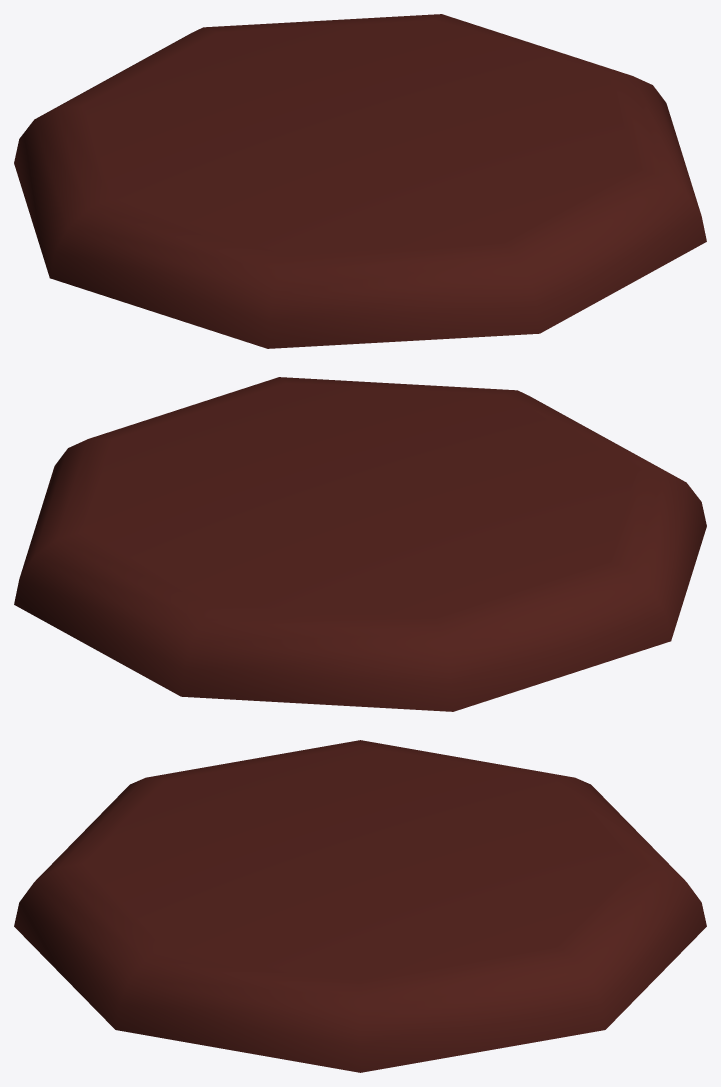
File: caramel_type0.fbx
3 views of the same model, one above another, from view 1: azimuth 30°, elevation 25°; view 2: azimuth 150°, elevation 25°; view 3: azimuth 270°, elevation 25° (orthographic). The views are drawn at different scales.
Visible parts, largest first — view 1: caramel; view 2: caramel; view 3: caramel.
Boxes of the visible parts, x1,y1,x2,y2 form: caramel: (14,14,706,348); caramel: (14,377,706,711); caramel: (14,740,706,1072).
Size of the model in its own units: 58.35 by 5.83 by 58.35.
